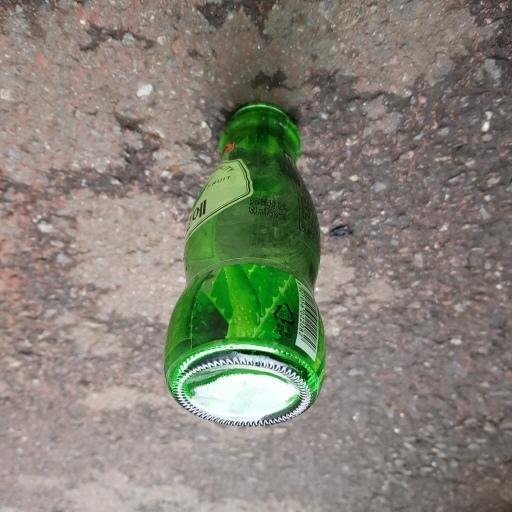Glass_4: (158, 98, 328, 427)
